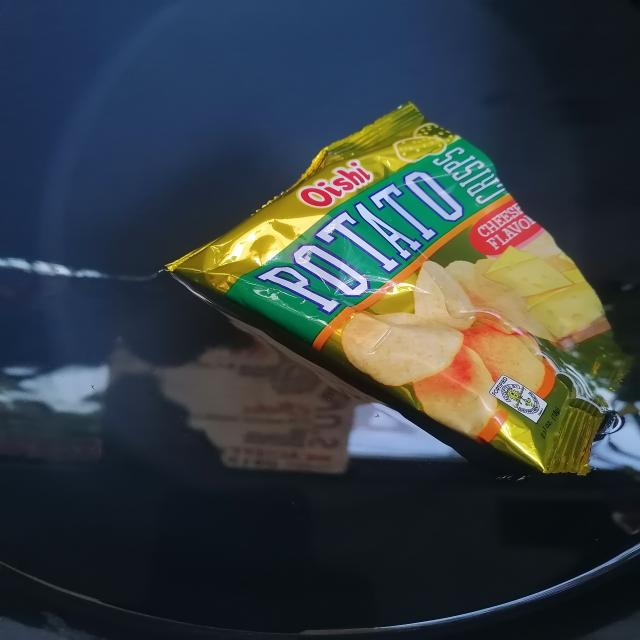Plastic Wrapper: (155, 103, 627, 475)
